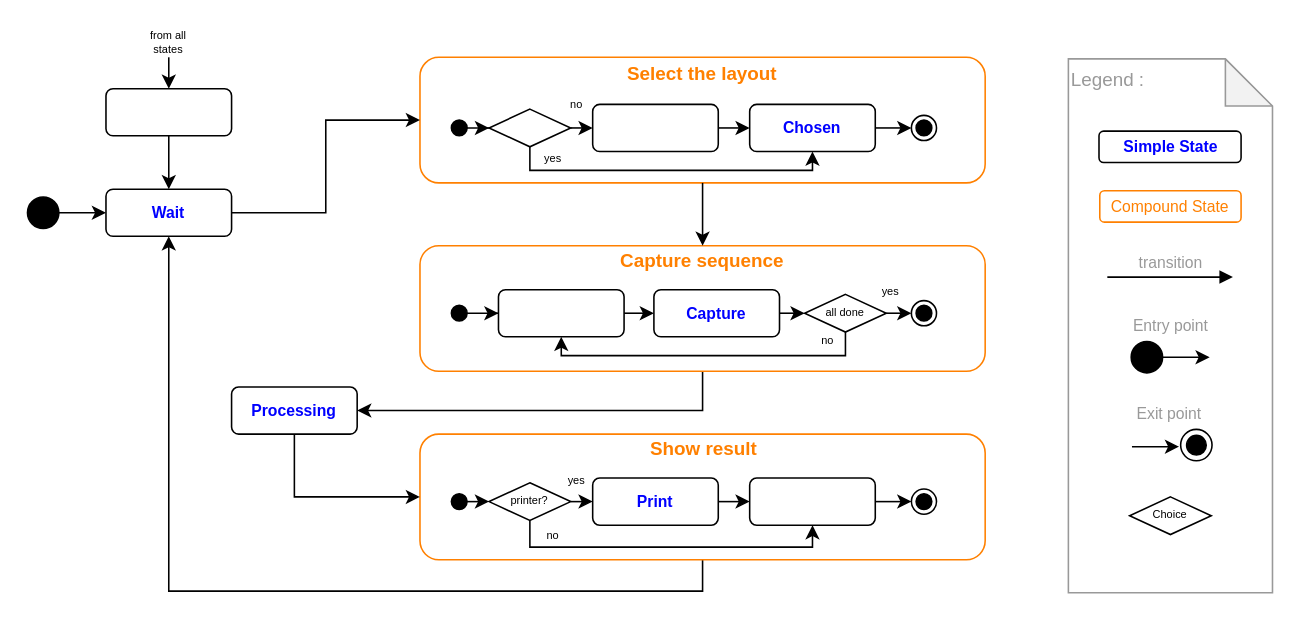
The diagram is 1300 pixels wide and 631 high, and some of its shapes have lost their labels. Each missing label, with the box of its shape:
Choose: (591, 103, 718, 152)
Failsafe: (104, 87, 232, 136)
Finish: (748, 476, 875, 525)
one layout: (487, 108, 571, 147)
Preview: (497, 288, 624, 337)
